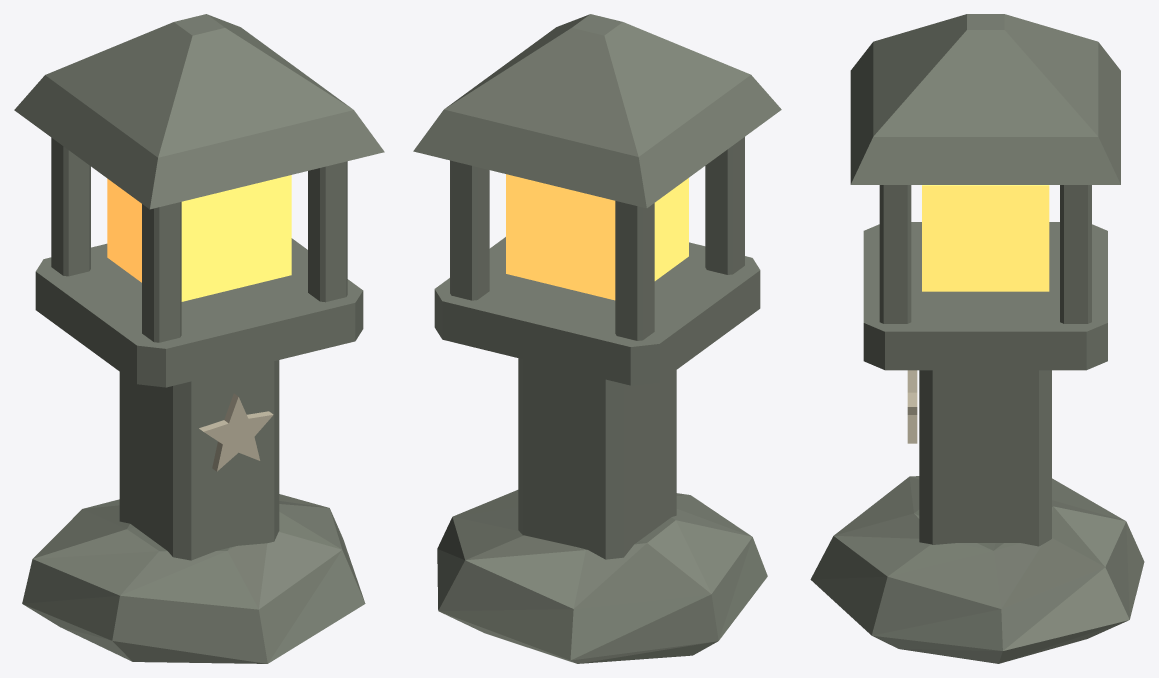
File: lantern_marker.glb
The picture shows the model from 3 angles, left to right: view 1: azimuth 30°, elevation 25°; view 2: azimuth 150°, elevation 25°; view 3: azimuth 270°, elevation 25°; orthographic projection.
Parts seen in each view (by area): view 1: geometry, light; view 2: geometry, light; view 3: geometry, light.
Boxes of the visible parts, box(x1,y1,x2,y2) form: geometry: box(14, 14, 384, 663); light: box(107, 175, 291, 301); geometry: box(413, 14, 781, 663); light: box(506, 174, 688, 300); geometry: box(810, 14, 1144, 663); light: box(922, 185, 1049, 291).
Bounding box in the file's own units: 0.6543 × 1.22 × 0.6294.
